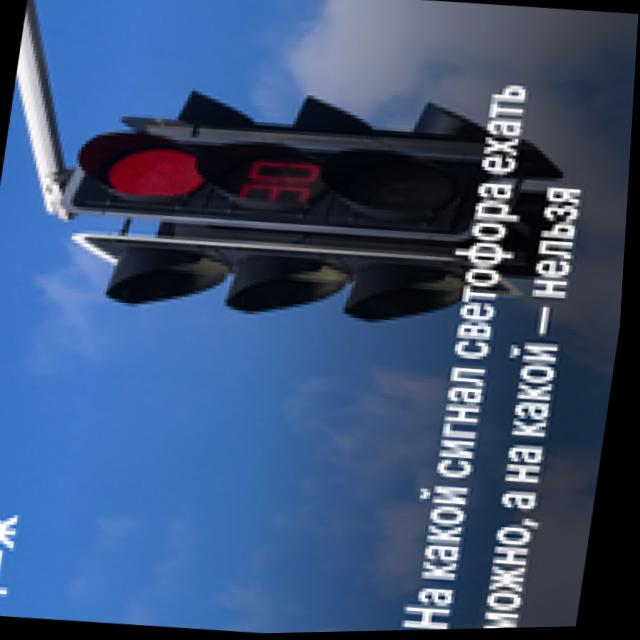red_light: (54, 122, 218, 233)
